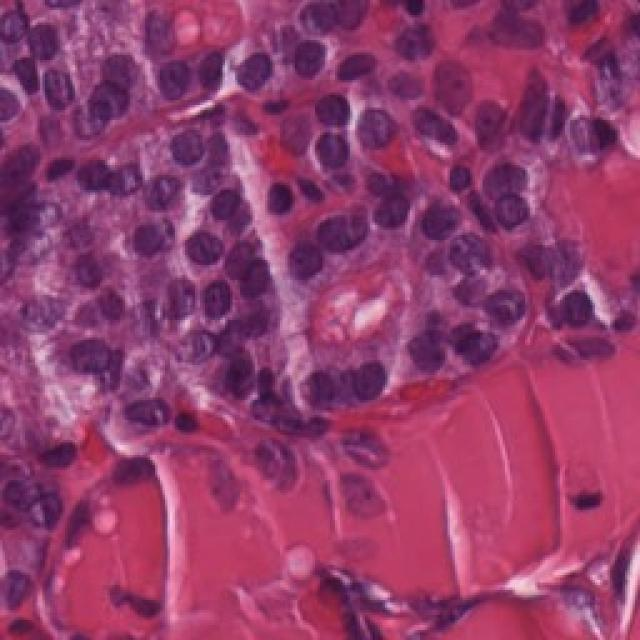normal: (529, 273, 620, 344), (214, 39, 290, 109), (403, 181, 464, 267), (273, 212, 335, 295), (339, 343, 399, 424), (300, 116, 367, 187), (275, 24, 335, 101), (399, 316, 455, 397), (151, 116, 222, 179), (196, 178, 260, 243), (151, 55, 195, 117)
